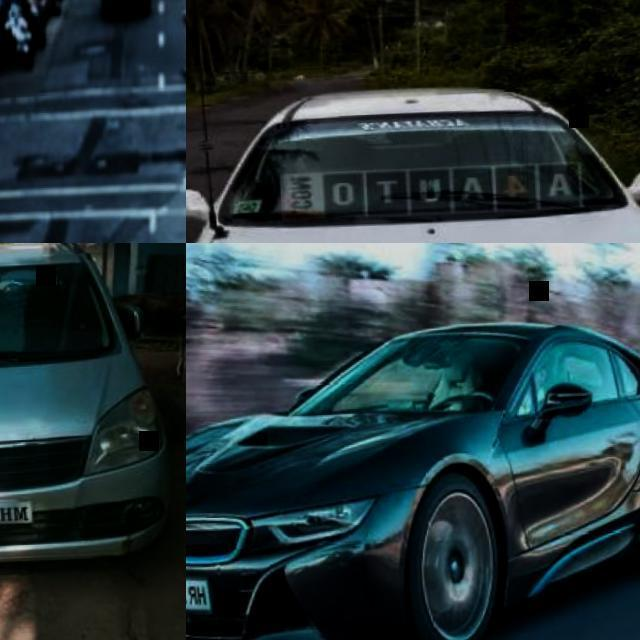car: (185, 316, 639, 639), (1, 232, 161, 575), (1, 3, 186, 183)
